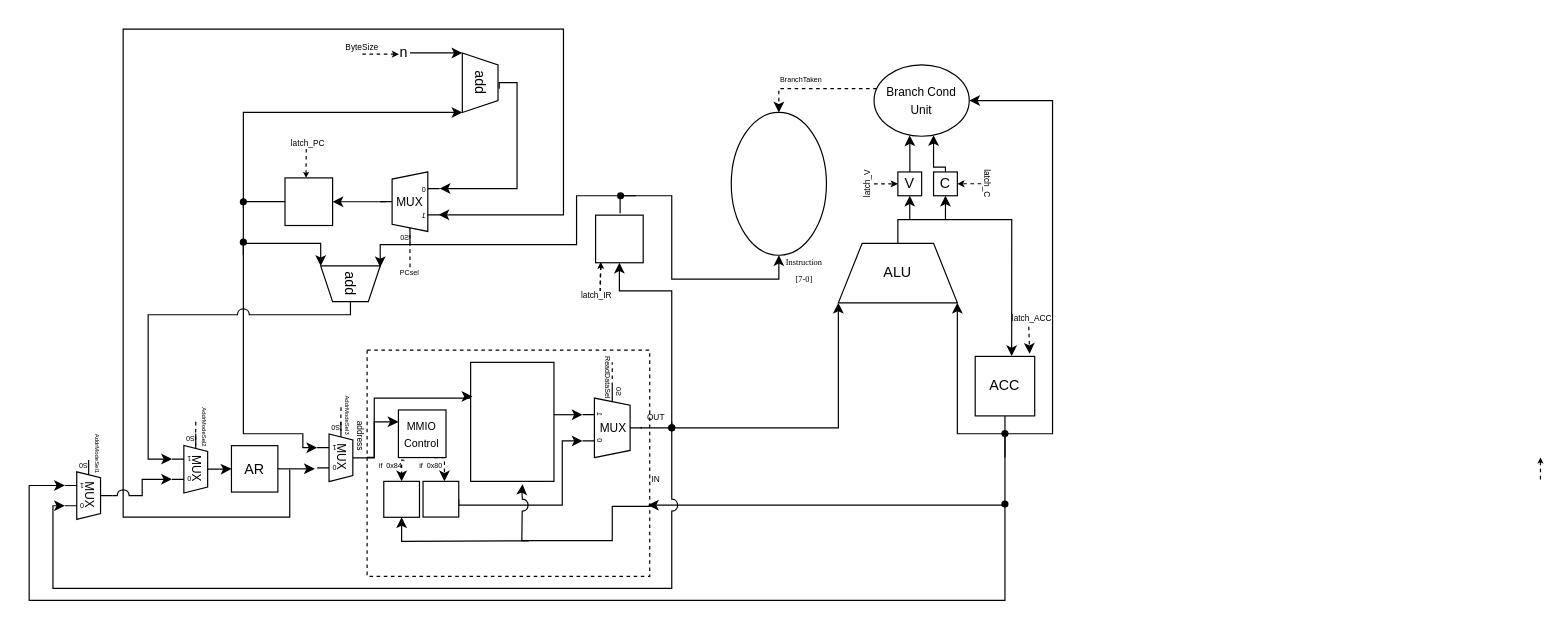
Image size: 1566x631. Some labels were removed from this diagram. The centre of each missing label's shape, as x and y in pixels:
"Control Unit" belongs at [778,183].
"input interface" belongs at [440,498].
"IR" belongs at [618,238].
"MEMORY" belongs at [511,421].
"output interface" belongs at [401,498].
"PC" belongs at [308,201].
